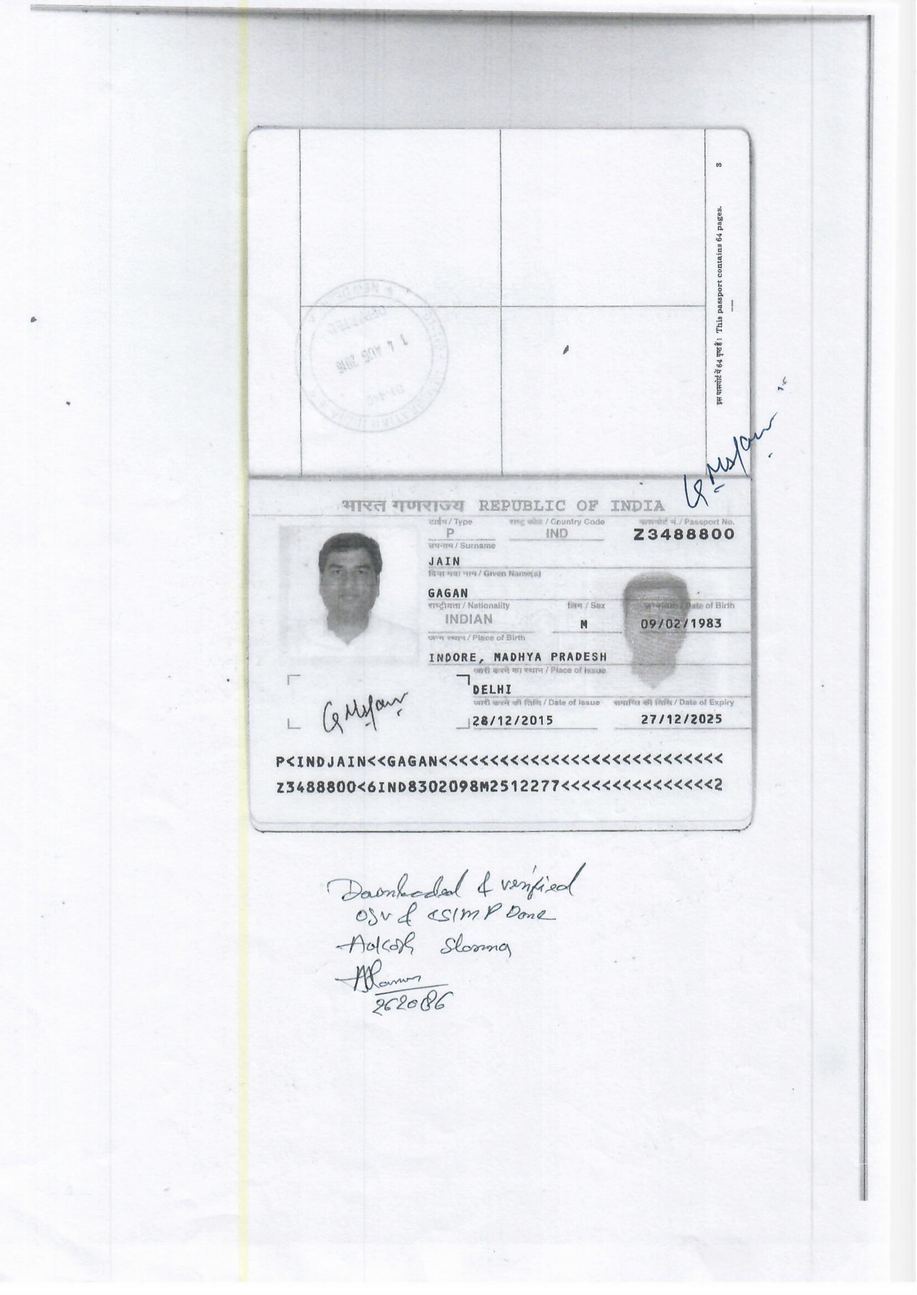DOB: (629, 610, 736, 633)
Surname: (423, 548, 467, 571)
country_code: (542, 524, 572, 540)
date_of_expiry: (625, 706, 734, 730)
date_of_issue: (463, 709, 575, 732)
details: (263, 744, 735, 806)
name: (402, 576, 479, 601)
nationality: (436, 605, 509, 630)
passport_no: (623, 522, 741, 547)
photo: (281, 532, 424, 649)
place_of_birth: (428, 648, 613, 672)
place_of_issue: (471, 677, 527, 698)
sex: (549, 603, 617, 634)
sign: (310, 690, 430, 736)
type: (432, 521, 467, 541)
